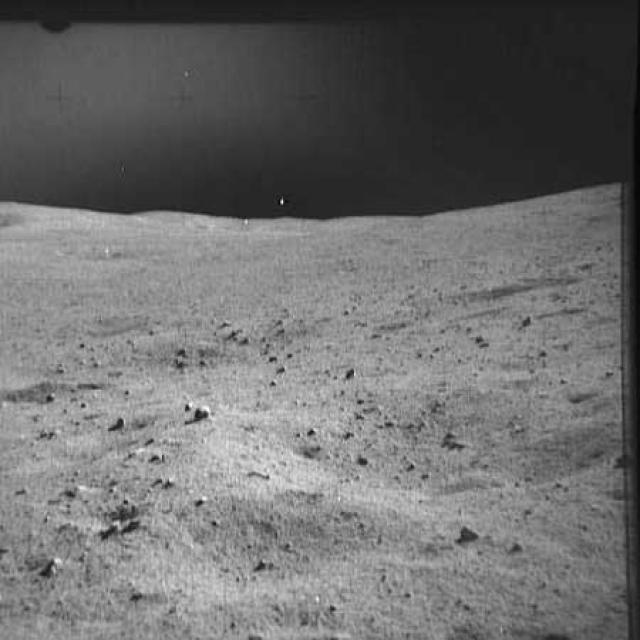rock: (185, 398, 222, 424), (456, 519, 492, 545), (436, 424, 467, 453), (67, 481, 98, 502), (40, 555, 66, 578), (354, 446, 378, 469), (105, 516, 129, 534), (341, 362, 359, 384), (108, 414, 129, 431)
